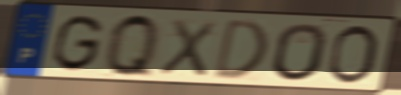D: (210, 16, 271, 81)
G: (49, 13, 106, 74)
O: (271, 21, 330, 84), (324, 23, 380, 86)
Q: (104, 11, 161, 81)
X: (156, 16, 218, 79)
